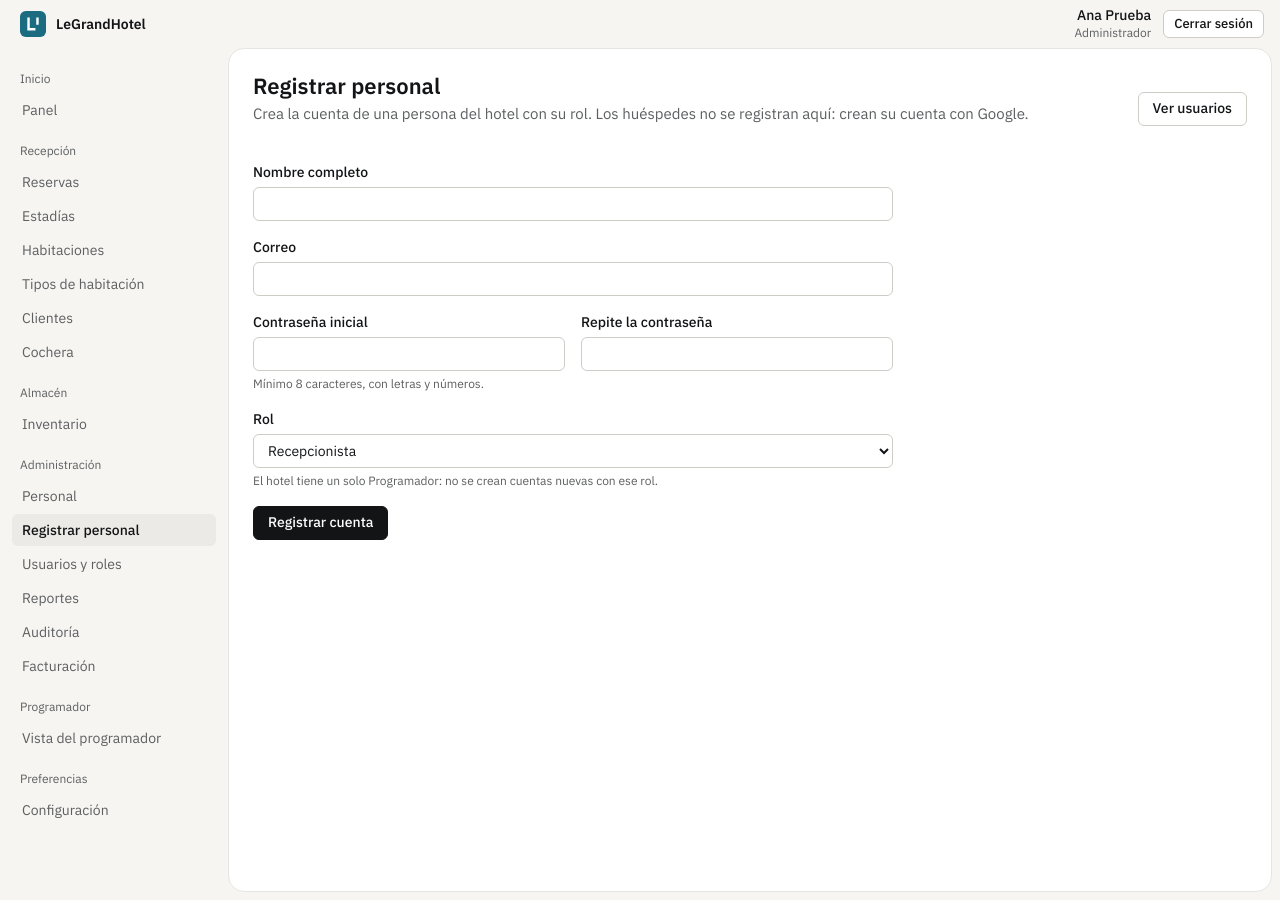
it: formularios de acceso › marca los campos inválidos del registro (422) junto a cada campo
Click the button "Registrar cuenta" at coordinates (321, 523), box top-left (253, 506), bottom-right (388, 540)
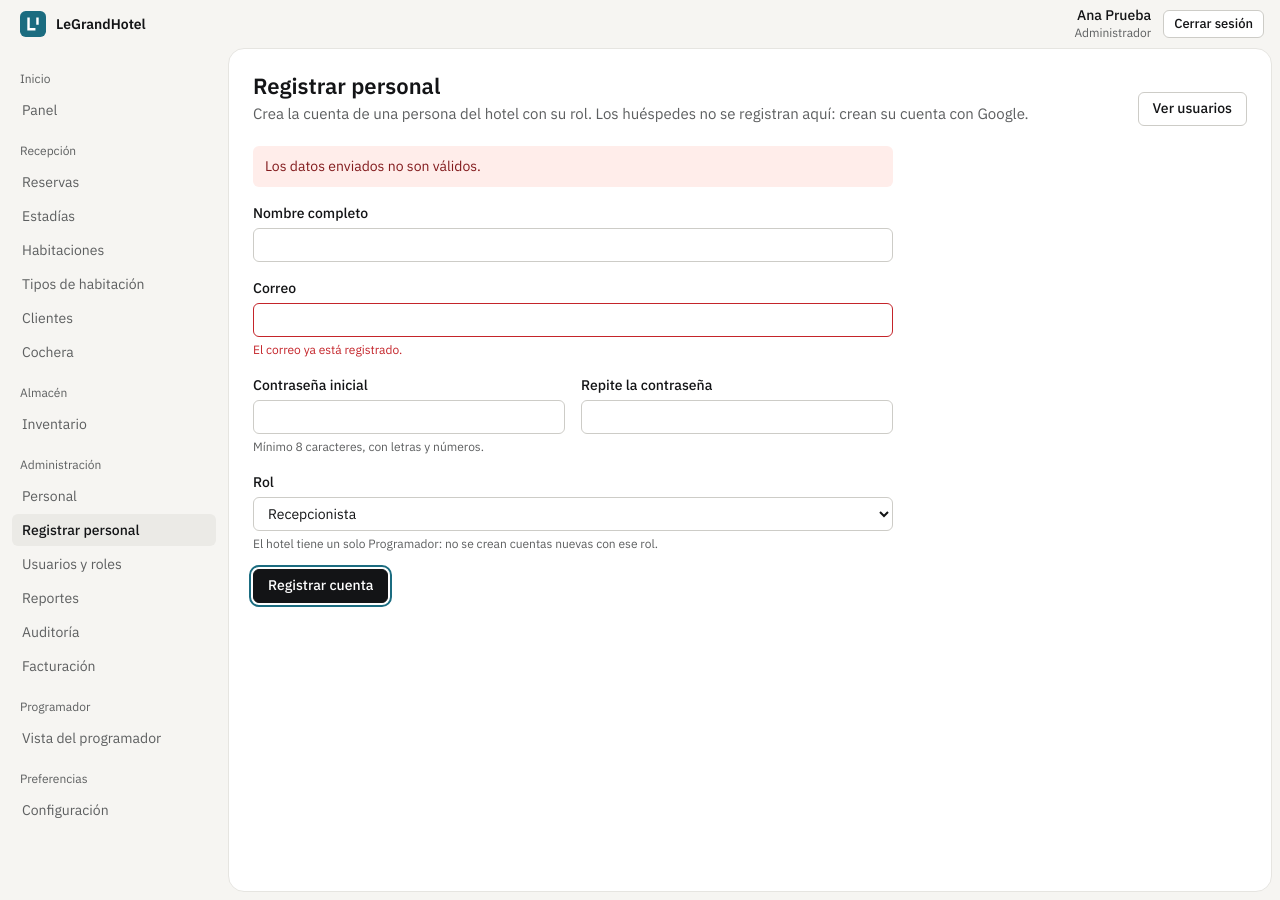
Now the text "El correo ya está registrado." is shown, box top-left (253, 342), bottom-right (402, 357)
